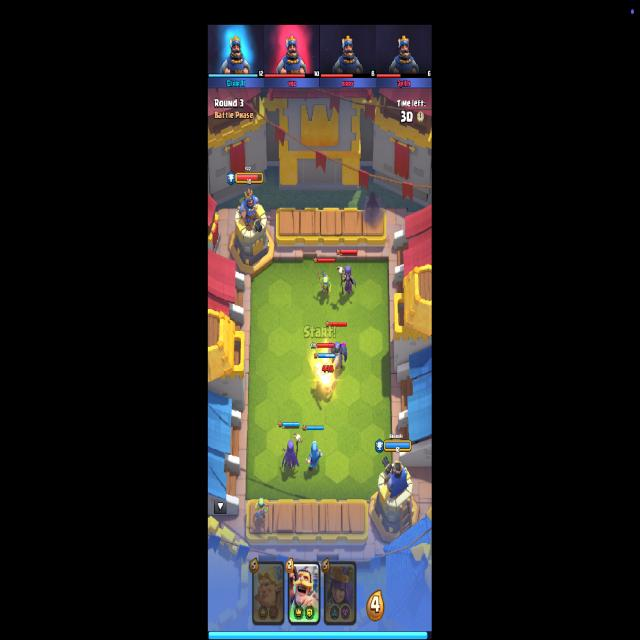card_archer_queen: (324, 560, 356, 626)
card_golden_knight: (252, 560, 285, 626)
card_knight: (288, 559, 320, 625)
pekka: (329, 340, 347, 370)
spear_goblin: (317, 271, 332, 297), (255, 498, 269, 523)
witch: (282, 433, 303, 469), (338, 265, 357, 297)
wizard: (306, 440, 322, 472)
